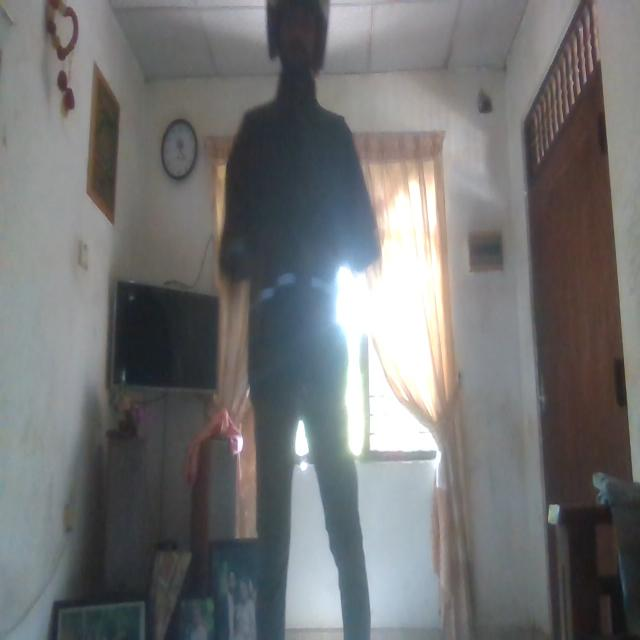Helmet_Wearer: (268, 0, 336, 95)
Jacket_Wearer: (225, 92, 379, 444)
Person: (217, 0, 383, 637)
